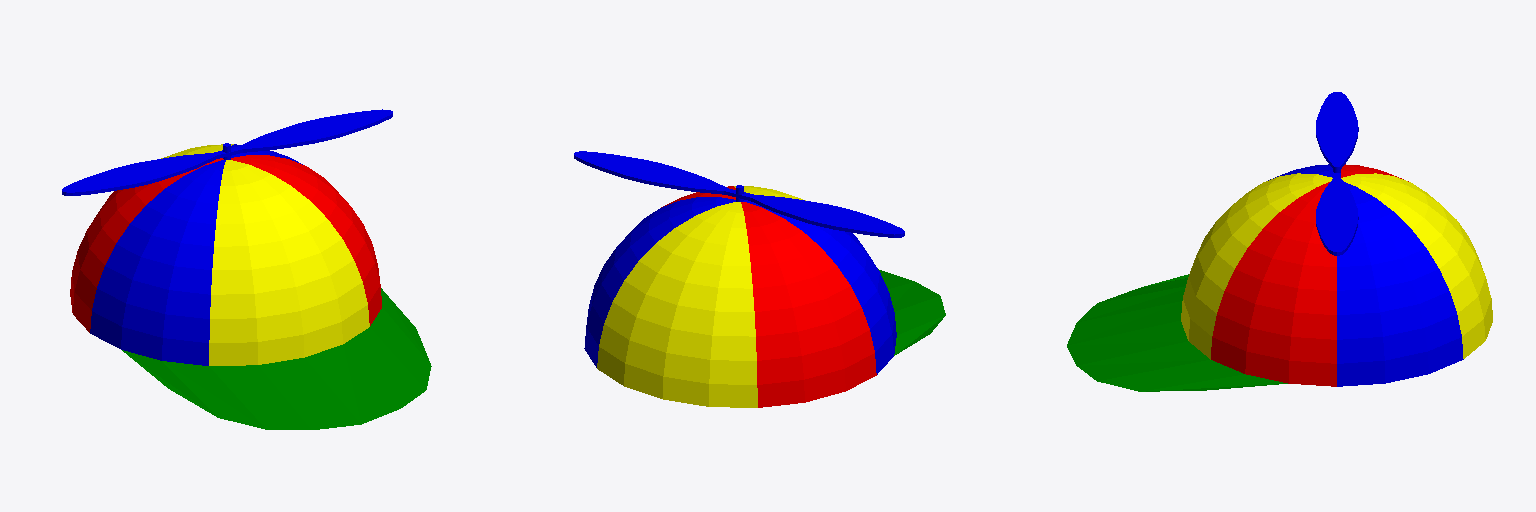
File: PropellerHat.obj
3 renders of one model, left to right at view 1: azimuth 30°, elevation 25°; view 2: azimuth 150°, elevation 25°; view 3: azimuth 270°, elevation 25°, orthographic.
Parts seen in each view (by area): view 1: pSphere1, pCube1; view 2: pSphere1, pCube1; view 3: pSphere1, pCube1.
Part boxes in pixels (bbox=[...]): pSphere1: bbox=[70, 144, 431, 429]; pCube1: bbox=[62, 109, 392, 195]; pSphere1: bbox=[584, 186, 945, 407]; pCube1: bbox=[574, 151, 904, 237]; pSphere1: bbox=[1067, 164, 1492, 391]; pCube1: bbox=[1316, 92, 1358, 255].
Size of the model in its own units: 2.44 by 1.27 by 2.73.